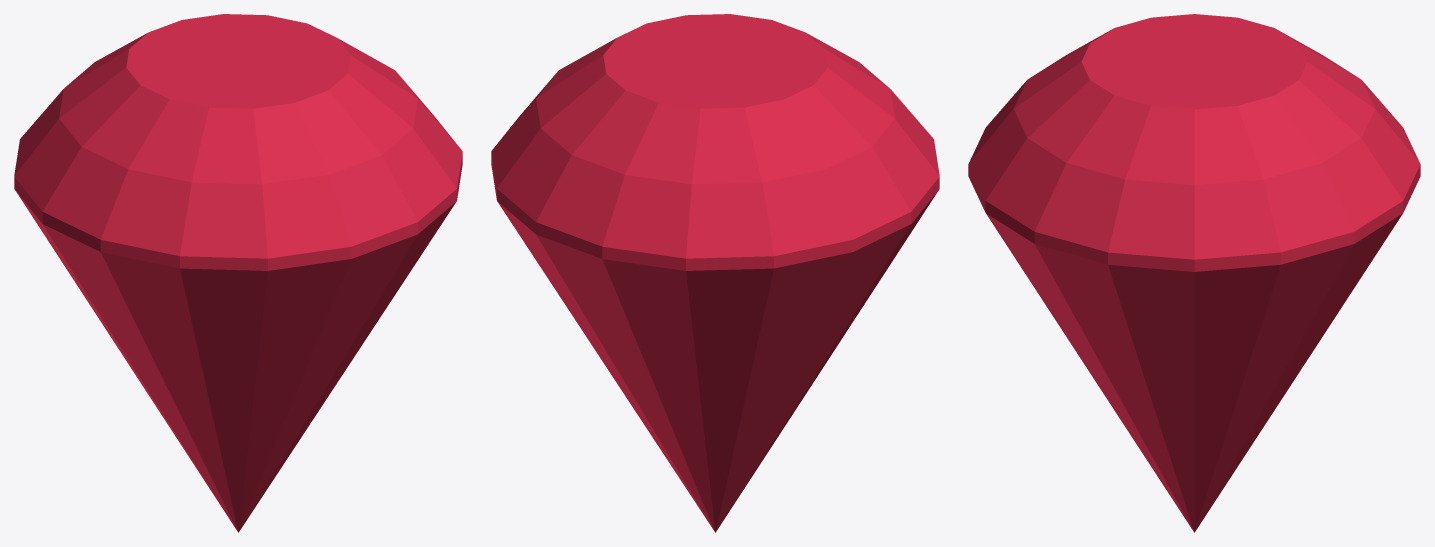
Rendered from SM_Ruby_Perfect.fbx.
The picture shows the model from 3 angles, left to right: view 1: azimuth 30°, elevation 25°; view 2: azimuth 150°, elevation 25°; view 3: azimuth 270°, elevation 25°; orthographic projection.
Visible parts, largest first — view 1: SM_Ruby_Perfect; view 2: SM_Ruby_Perfect; view 3: SM_Ruby_Perfect.
Boxes of the visible parts, x1=… form: SM_Ruby_Perfect: x1=14, y1=14, x2=462, y2=532; SM_Ruby_Perfect: x1=491, y1=14, x2=939, y2=532; SM_Ruby_Perfect: x1=968, y1=14, x2=1420, y2=532.
Size of the model in its own units: 20 by 20 by 23.
